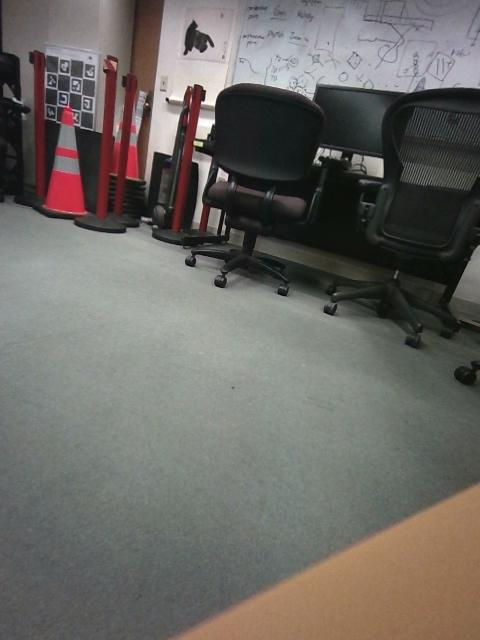block: (22, 265, 52, 335)
